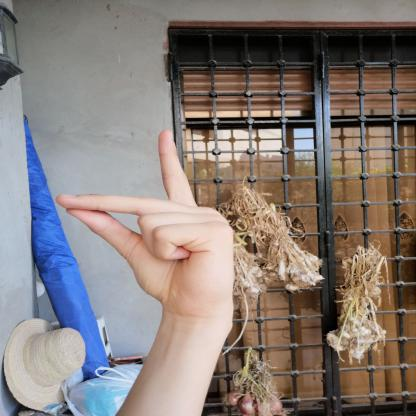TAA: (44, 119, 252, 322)
